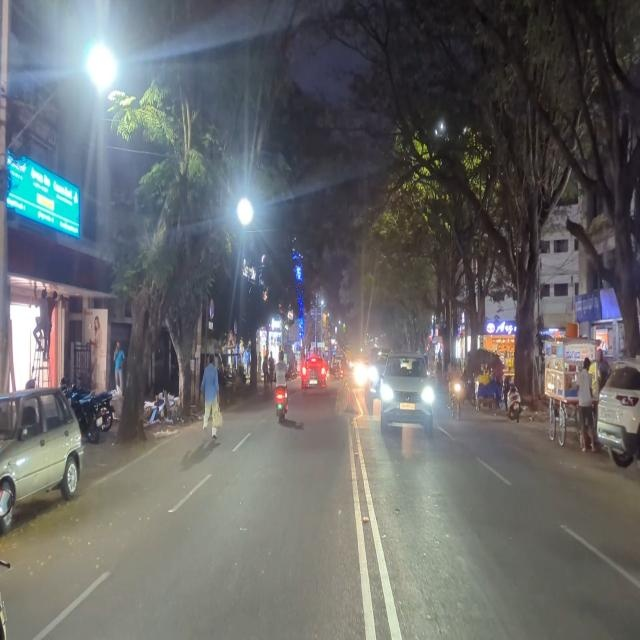bien_nguy_hiem: (226, 328, 236, 349), (209, 296, 215, 320)
